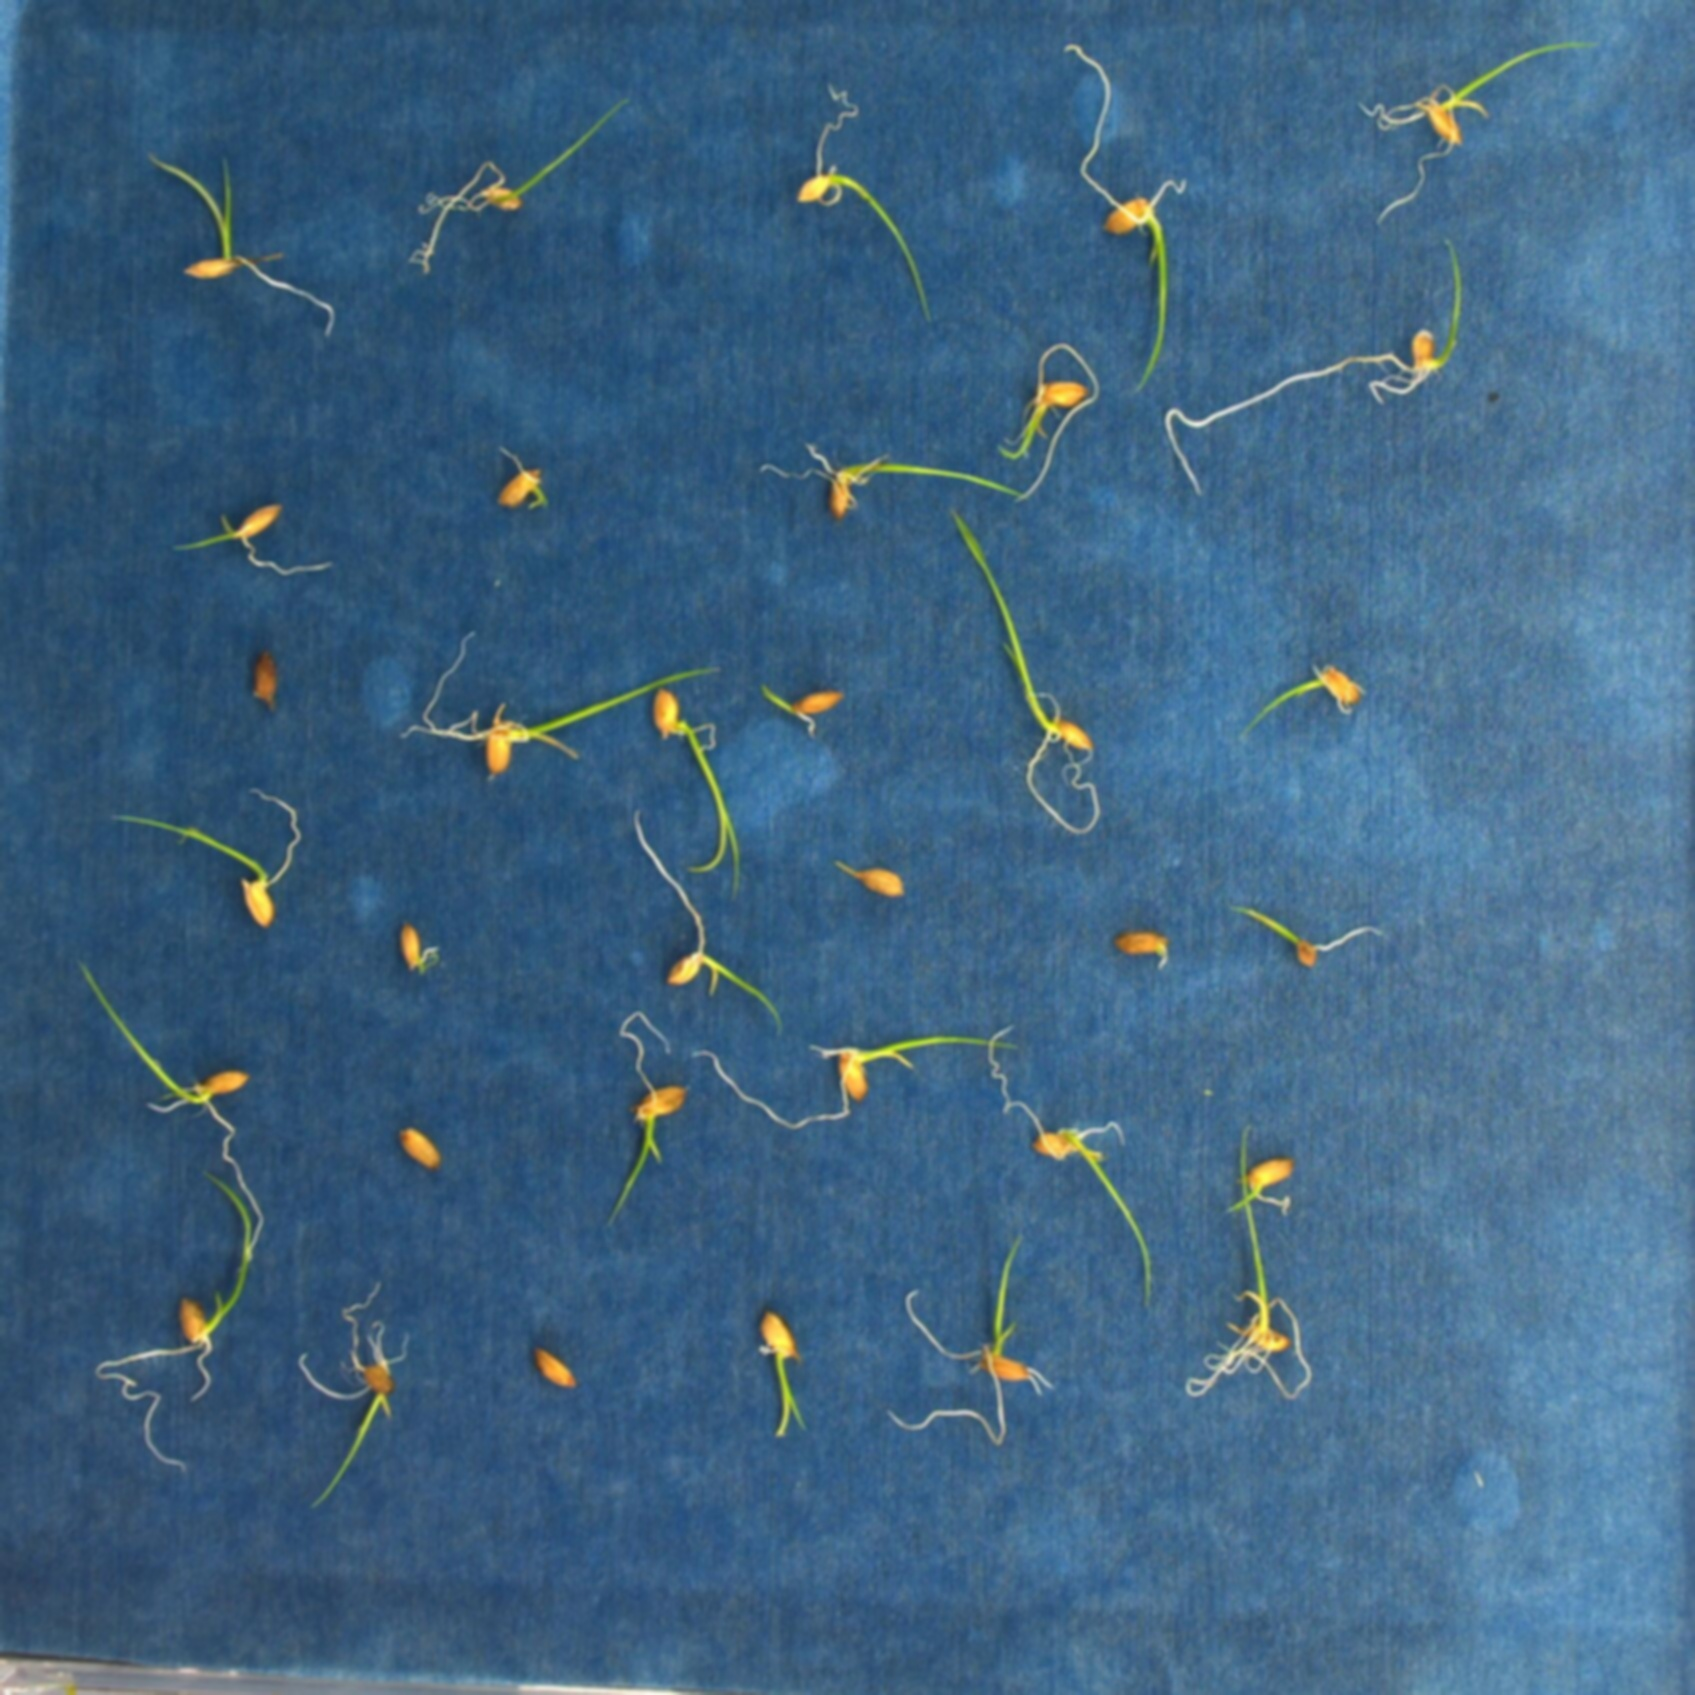not sprout: (399, 633, 723, 782), (653, 689, 742, 902), (832, 858, 905, 902), (1111, 920, 1173, 970), (393, 914, 439, 979), (391, 1121, 445, 1175), (529, 1343, 574, 1391), (248, 643, 276, 711)
sprout: (1161, 234, 1464, 487), (82, 961, 267, 1284), (950, 517, 1107, 840), (93, 1173, 248, 1475), (989, 1024, 1153, 1309), (1361, 36, 1597, 224), (1063, 43, 1187, 388), (408, 106, 635, 275), (141, 144, 337, 338), (883, 1231, 1052, 1450), (1183, 1124, 1313, 1399), (636, 806, 785, 1037), (798, 85, 938, 314), (688, 1035, 1026, 1127), (112, 784, 303, 931), (300, 1281, 411, 1503), (747, 438, 1029, 523), (607, 1010, 686, 1231), (997, 338, 1101, 504), (168, 500, 335, 577), (1228, 894, 1392, 969), (1239, 661, 1366, 742), (753, 1301, 810, 1440), (757, 680, 847, 742), (494, 439, 549, 512), (1225, 1159, 1291, 1215)
